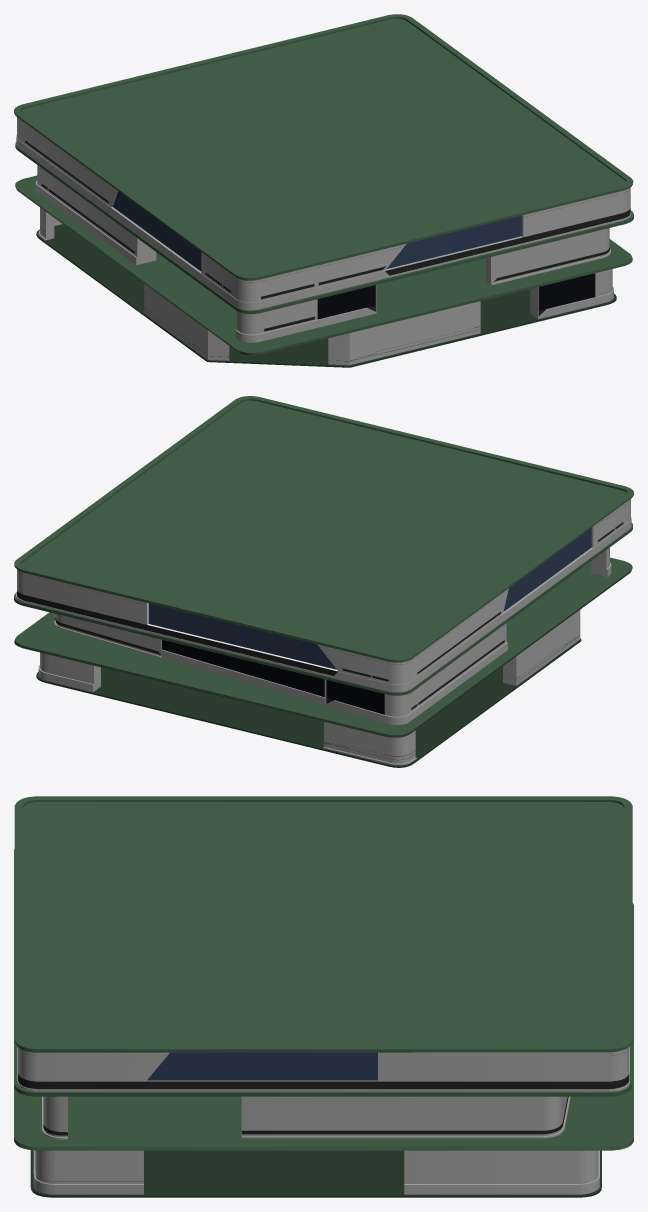
File: Building_Hana_002_1st_L0.fbx
3 views of the same model, one above another, from view 1: azimuth 30°, elevation 25°; view 2: azimuth 150°, elevation 25°; view 3: azimuth 270°, elevation 25° (orthographic). The views are drawn at different scales.
Visible parts, largest first — view 1: Building_Hana_002_1st_L0; view 2: Building_Hana_002_1st_L0; view 3: Building_Hana_002_1st_L0.
Boxes of the visible parts, <box> form: Building_Hana_002_1st_L0: <box>14,14,633,367</box>; Building_Hana_002_1st_L0: <box>14,396,633,767</box>; Building_Hana_002_1st_L0: <box>14,796,633,1197</box>.
Size of the model in its own units: 55.24 by 15.8 by 57.14.
